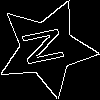N: (21, 23, 74, 68)
